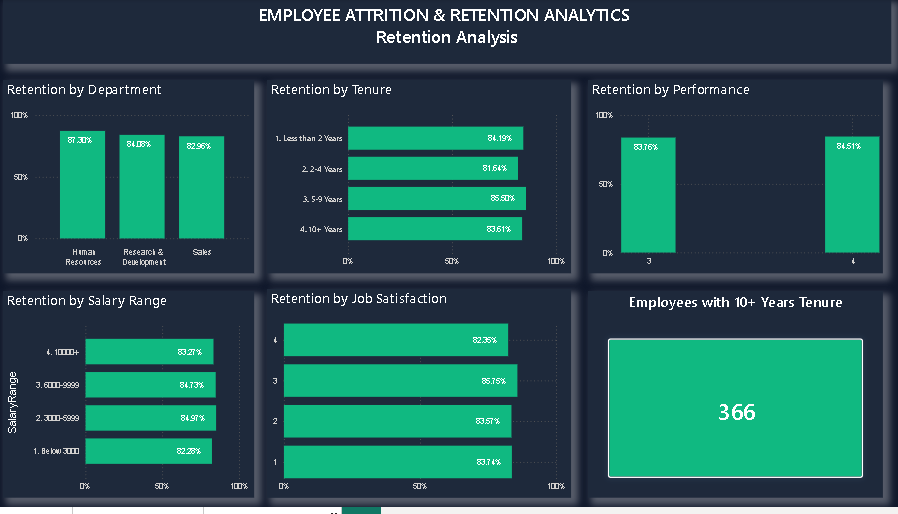

This screenshot's page, from the dashboard's own definition file:
{"tool":"powerbi","page":{"name":"Retention Analysis","canvas":[1280,720],"ordinal":2},"visuals":[{"type":"clusteredColumnChart","title":"Retention by Department","fields":{"Category":["HR_Analytics_Final.Department"],"Y":["HR_Analytics_Final.Retention Rate"]},"box":[11.3,114.8,355.7,273.5],"z":0},{"type":"textbox","box":[11.3,0,1258.6,92.1],"z":1000},{"type":"clusteredBarChart","title":"Retention by Salary Range","fields":{"Category":["HR_Analytics_Final.SalaryRange"],"Y":["HR_Analytics_Final.Retention Rate"]},"box":[11.3,413.9,355.7,293.4],"z":2000},{"type":"barChart","title":"Retention by Tenure","fields":{"Category":["HR_Analytics_Final.TenureGroup"],"Y":["HR_Analytics_Final.Retention Rate"]},"box":[385.5,114.8,430.9,273.5],"z":3000},{"type":"clusteredBarChart","title":"Retention by Job Satisfaction","fields":{"Category":["HR_Analytics_Final.JobSatisfaction"],"Y":["HR_Analytics_Final.Retention Rate"]},"box":[385.5,411,430.9,296.2],"z":4000},{"type":"columnChart","title":"Retention by Performance","fields":{"Category":["HR_Analytics_Final.PerformanceRating"],"Y":["HR_Analytics_Final.Retention Rate"]},"box":[840.5,114.8,418.1,273.5],"z":5000},{"type":"cardVisual","title":"Employees with 10+ Years Tenure","fields":{"Data":["HR_Analytics_Final.Long Tenure Employees"]},"box":[840.5,413.9,418.1,293.4],"z":6000}]}

Visuals, with their boxes in screenshot pixels (x1, y1, x2, y2), scaled from the page's 1280x720 canvas onto the 898x514 screenshot:
"Retention by Department" clusteredColumnChart: 8 82 257 277
textbox: 8 0 891 66
"Retention by Salary Range" clusteredBarChart: 8 295 257 505
"Retention by Tenure" barChart: 270 82 573 277
"Retention by Job Satisfaction" clusteredBarChart: 270 293 573 505
"Retention by Performance" columnChart: 590 82 883 277
"Employees with 10+ Years Tenure" cardVisual: 590 295 883 505
